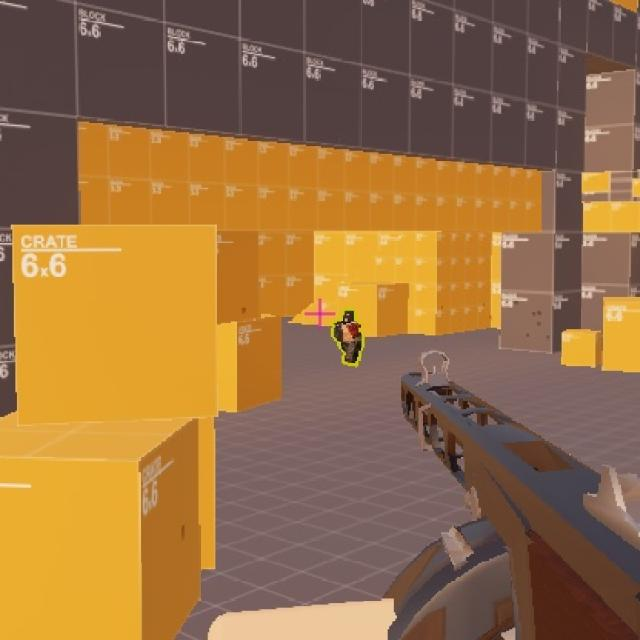player: (338, 309, 364, 369)
